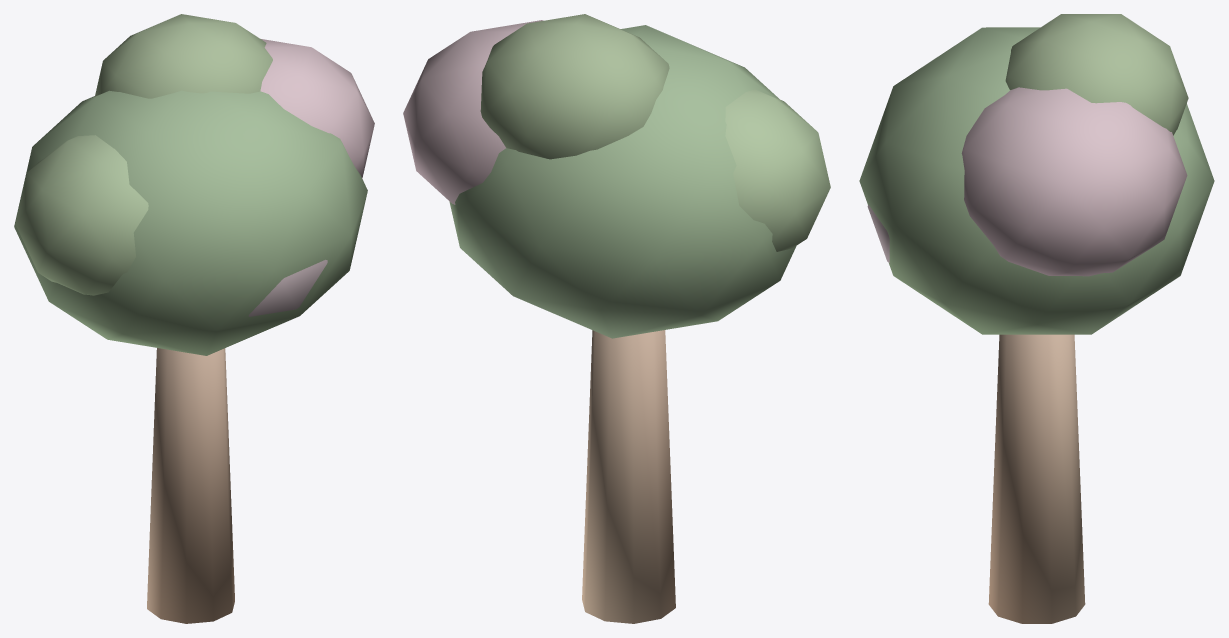
Rendered from tree_blossom.glb.
3 views of the same model, side by side, from view 1: azimuth 30°, elevation 25°; view 2: azimuth 150°, elevation 25°; view 3: azimuth 270°, elevation 25° (orthographic). The views are drawn at different scales.
Visible parts, largest first — view 1: Canopy, Trunk; view 2: Canopy, Trunk; view 3: Canopy, Trunk.
Part boxes in pixels (bbox=[...]): Canopy: bbox=[14, 14, 374, 355]; Trunk: bbox=[147, 348, 234, 623]; Canopy: bbox=[403, 14, 830, 338]; Trunk: bbox=[582, 330, 675, 623]; Canopy: bbox=[859, 14, 1214, 334]; Trunk: bbox=[988, 334, 1085, 623].
Bounding box in the file's own units: 1.42 × 2.18 × 1.18.
